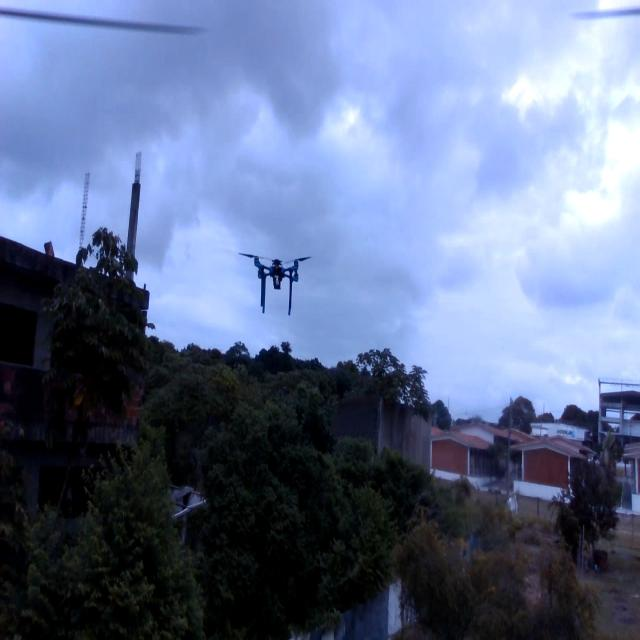-uav-: (233, 228, 320, 335)
